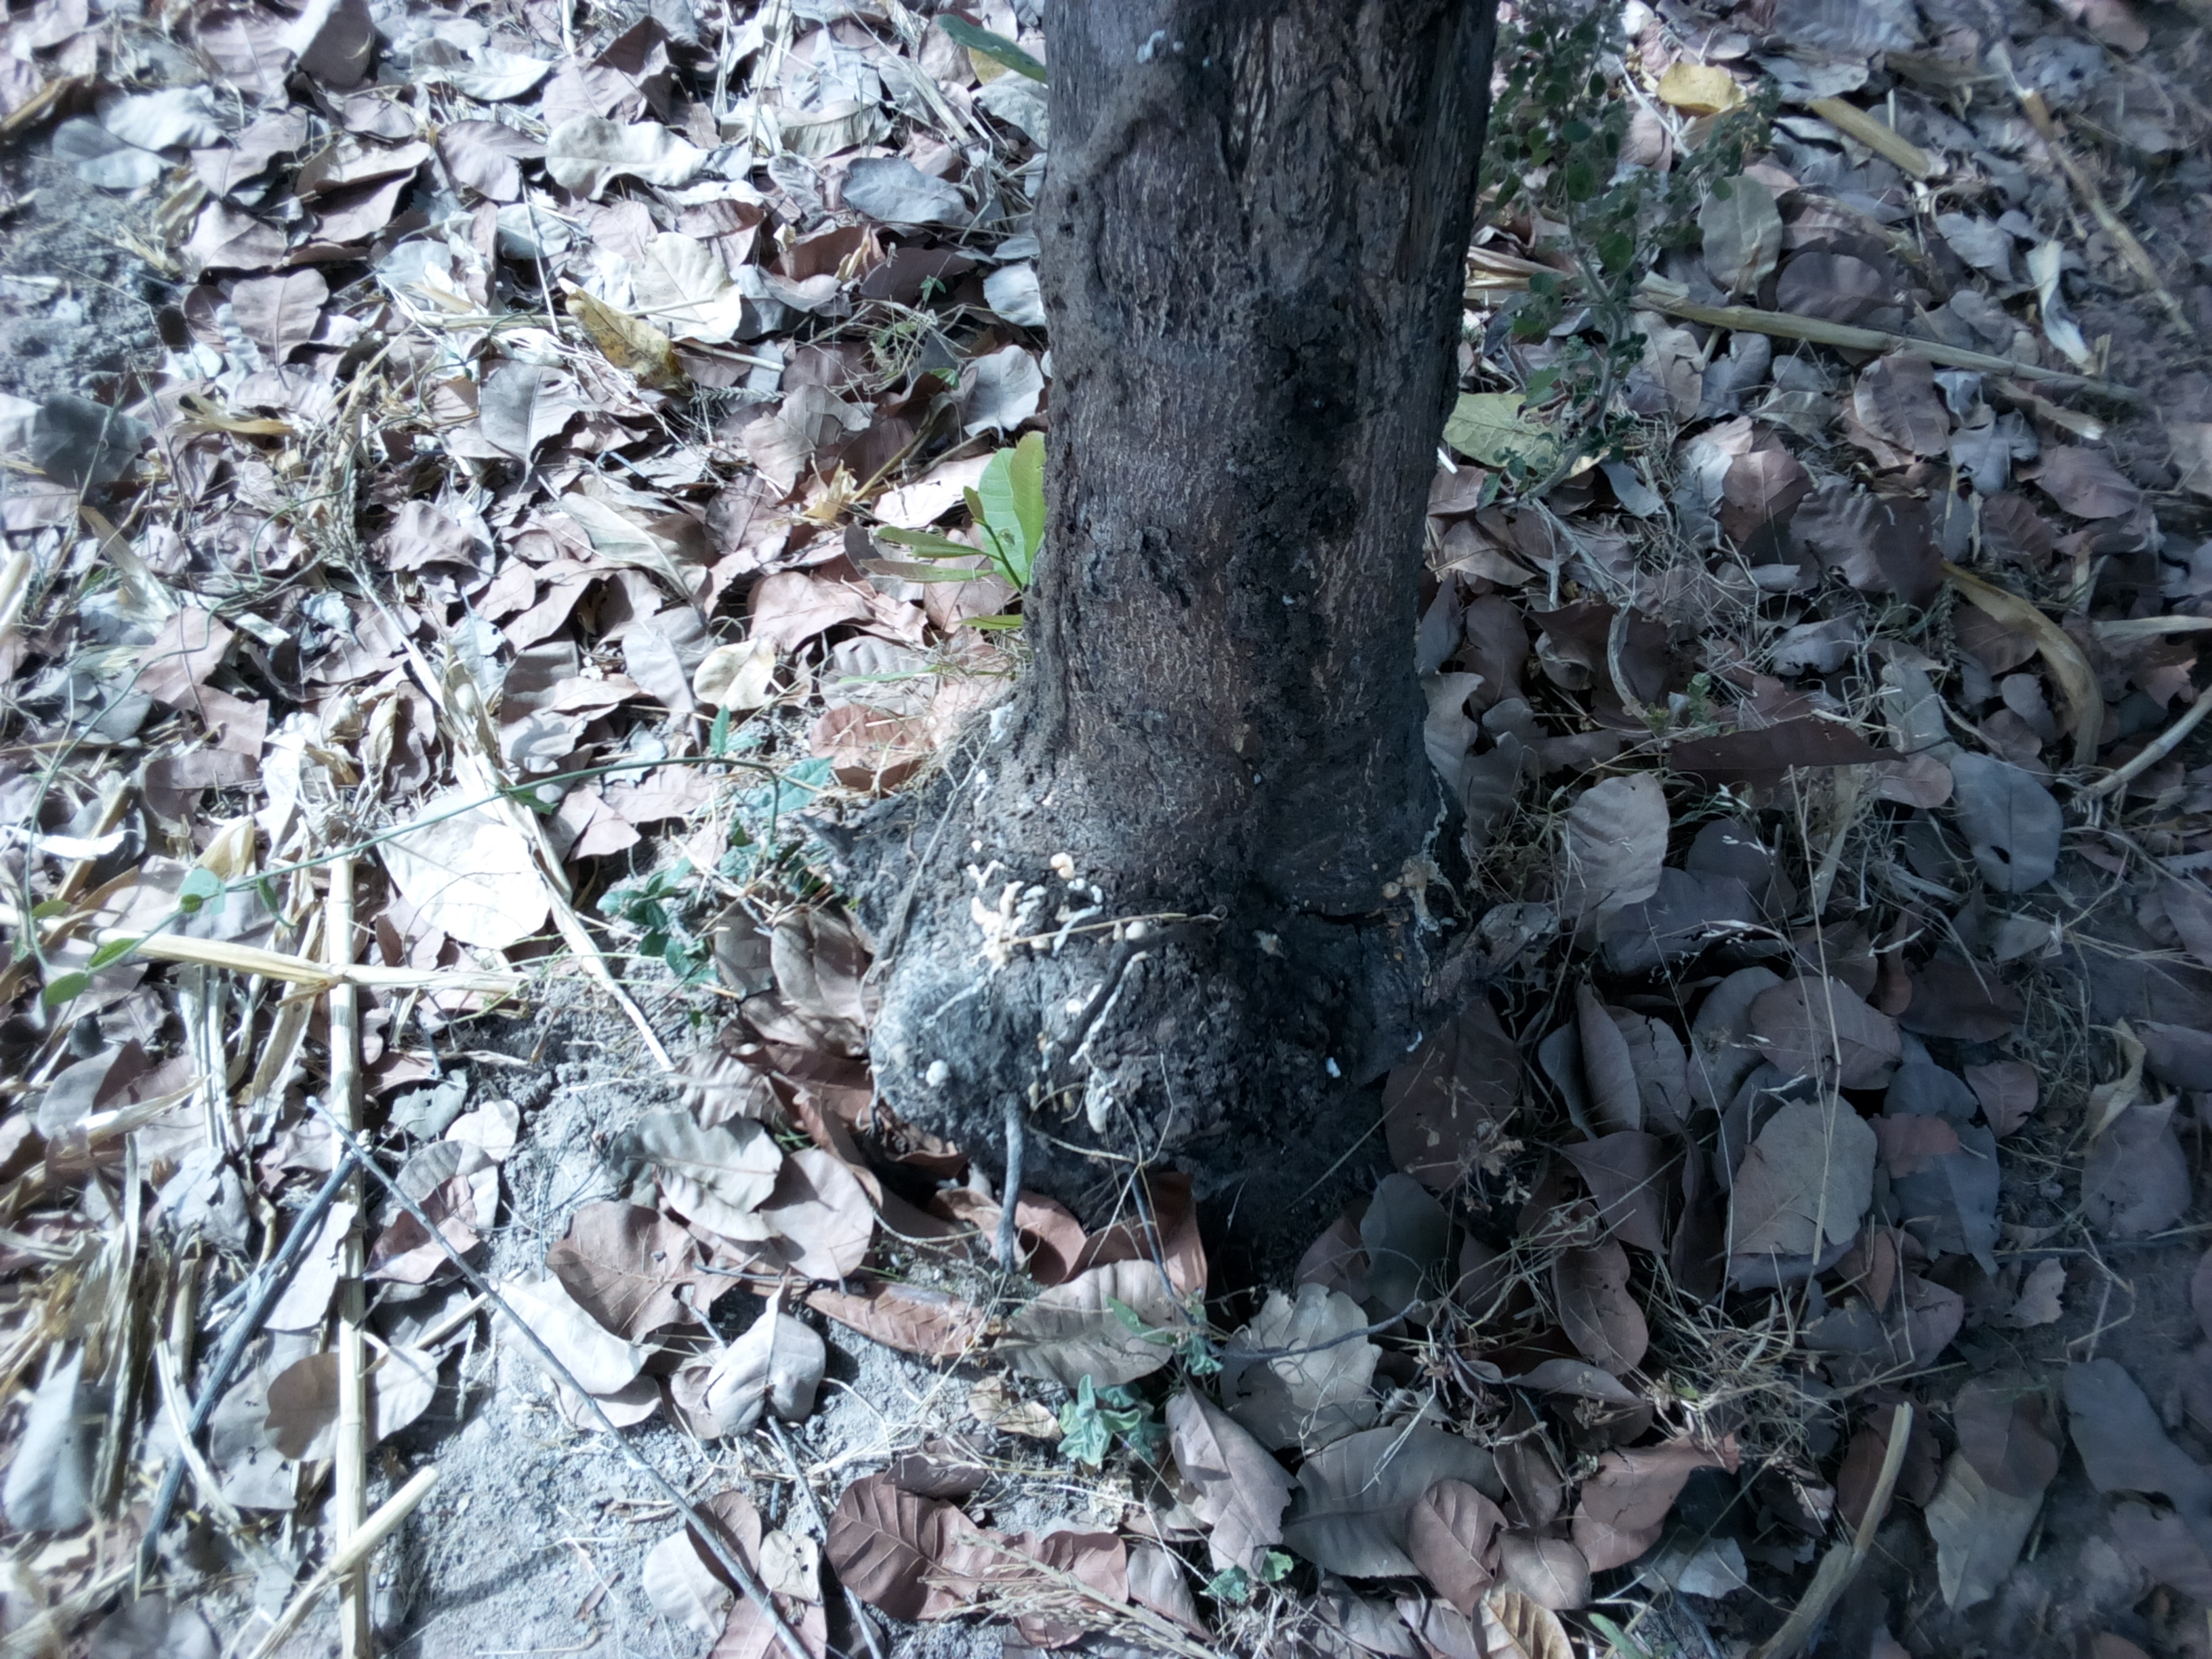Termites: (1226, 305, 1372, 1155), (1033, 64, 1181, 732)
